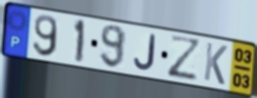1: (71, 18, 86, 64)
9: (99, 23, 128, 71), (32, 15, 59, 59)
J: (132, 33, 158, 73)
K: (202, 40, 229, 87)
Z: (166, 33, 204, 83)
